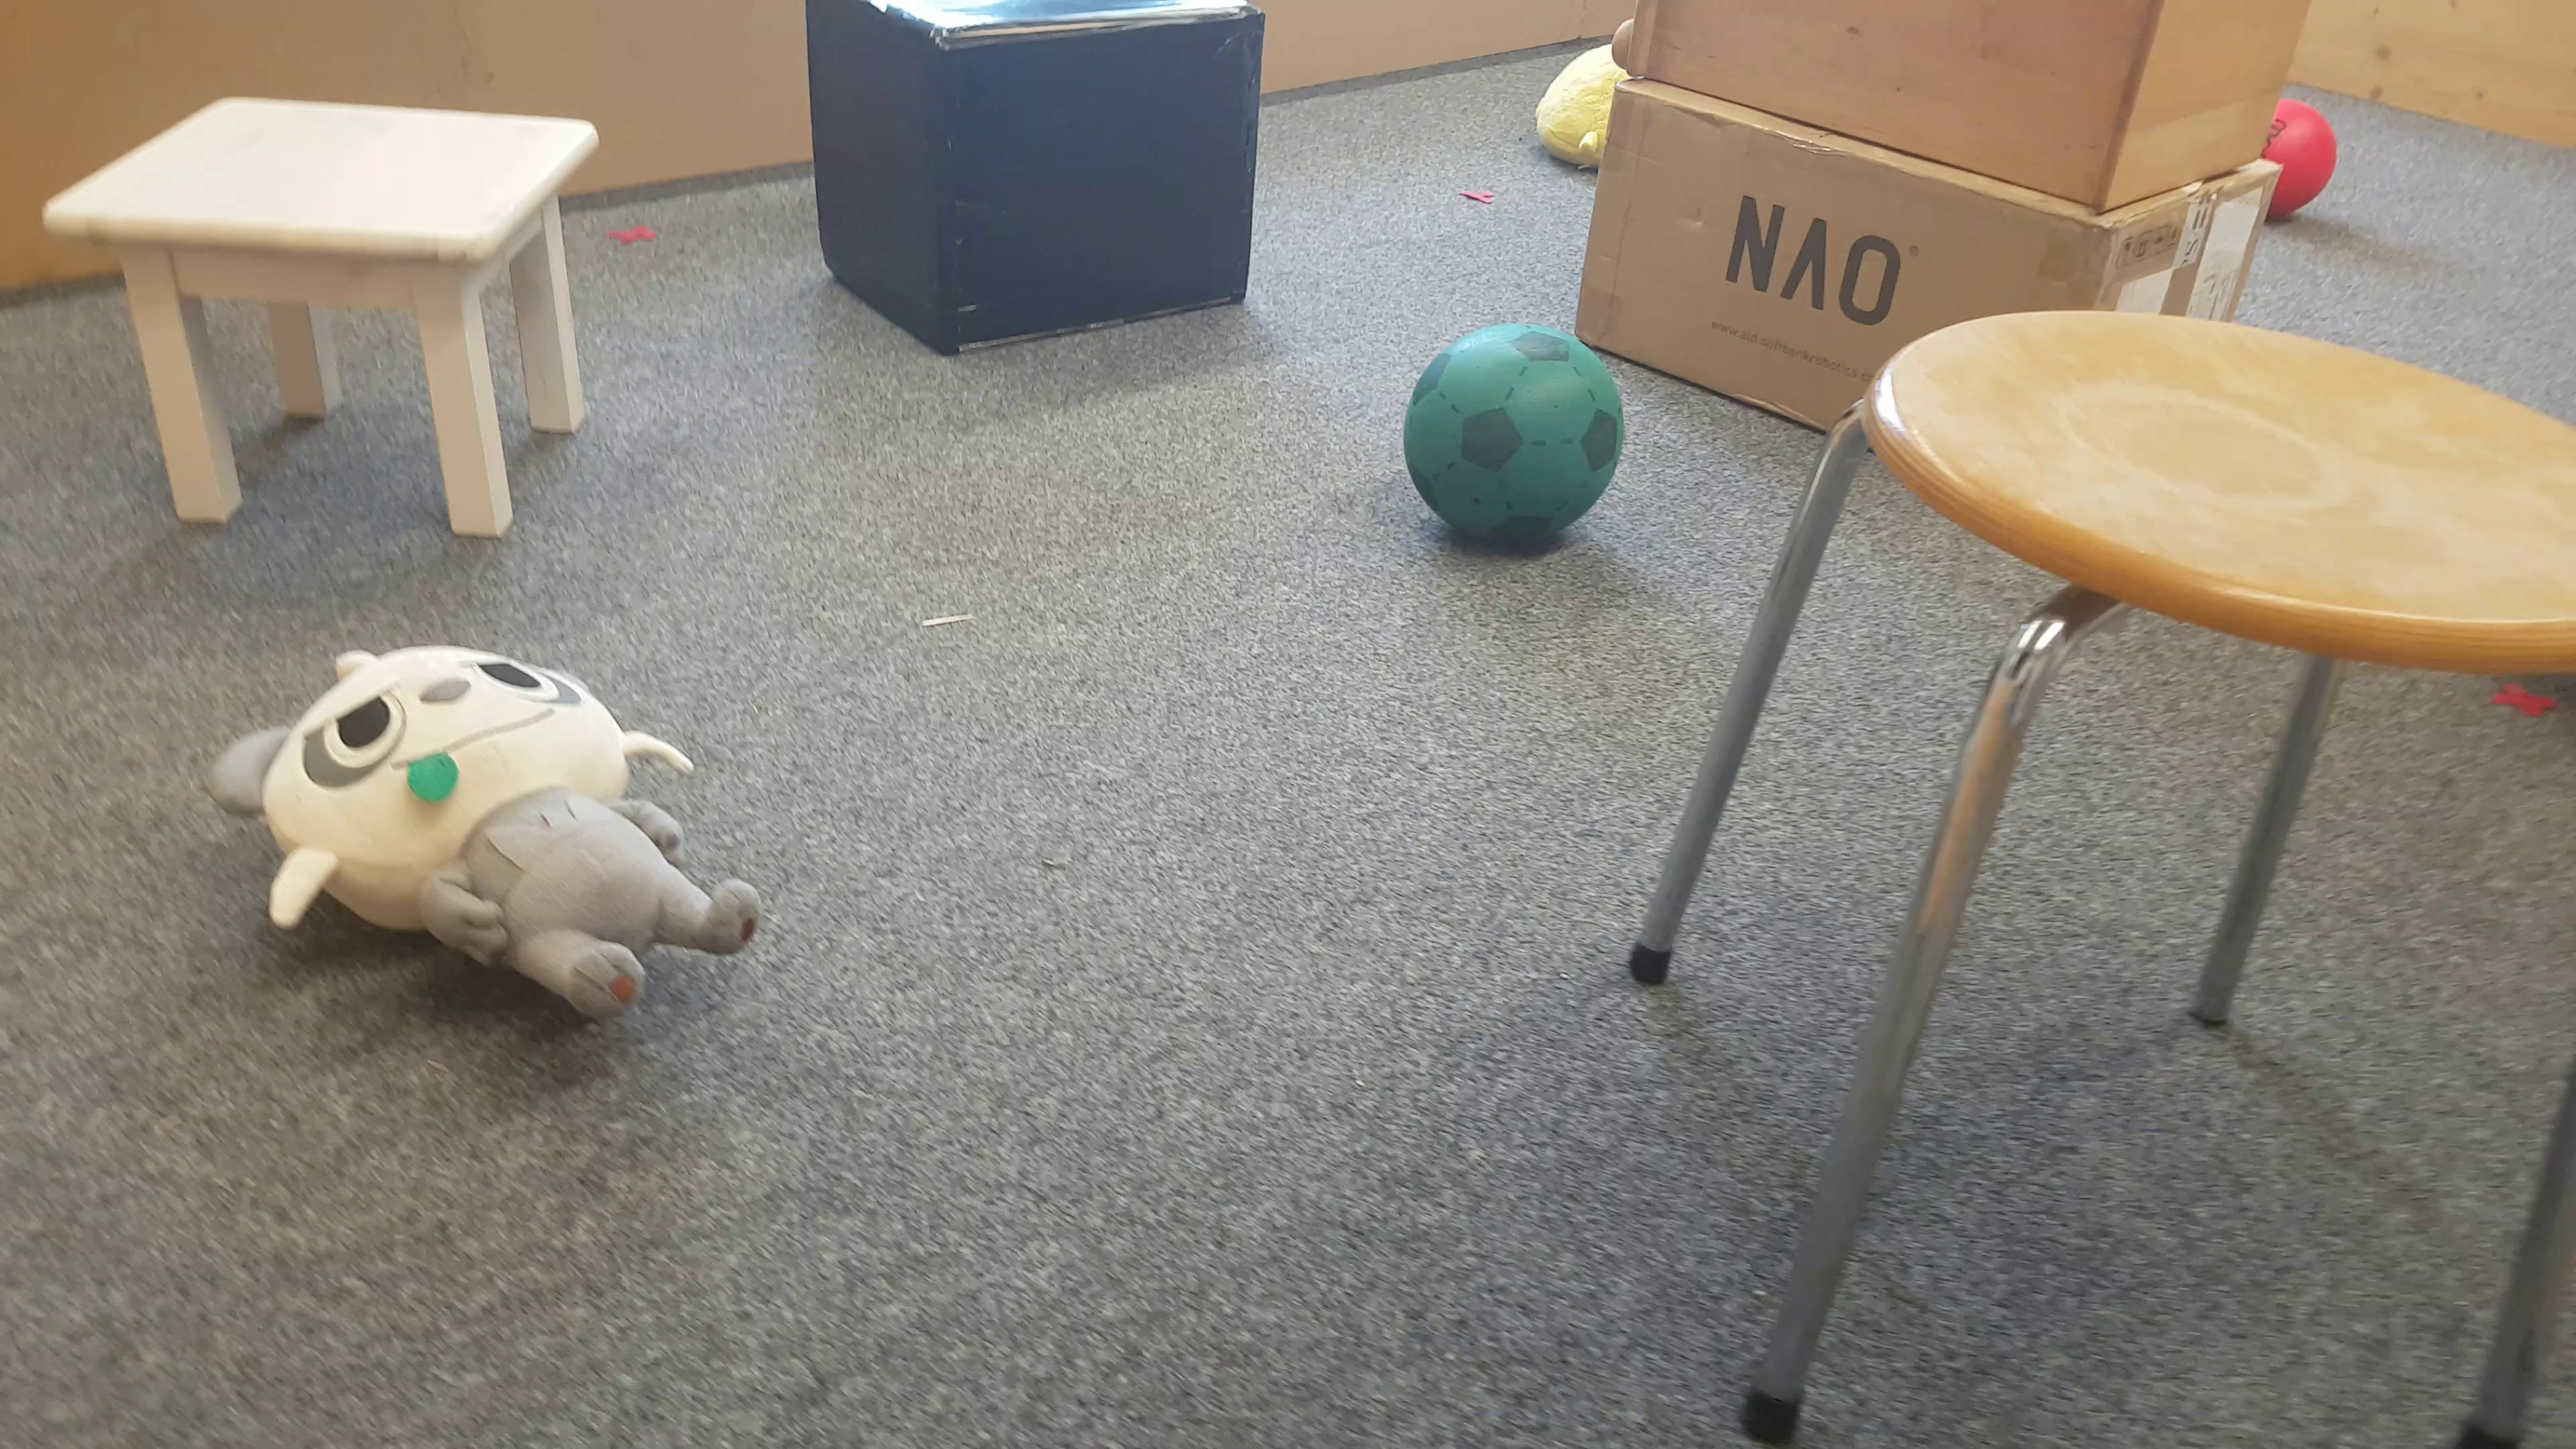grasp: (228, 644, 771, 1024), (1541, 46, 1621, 170)
kick: (1408, 322, 1621, 547), (2279, 104, 2334, 223)
